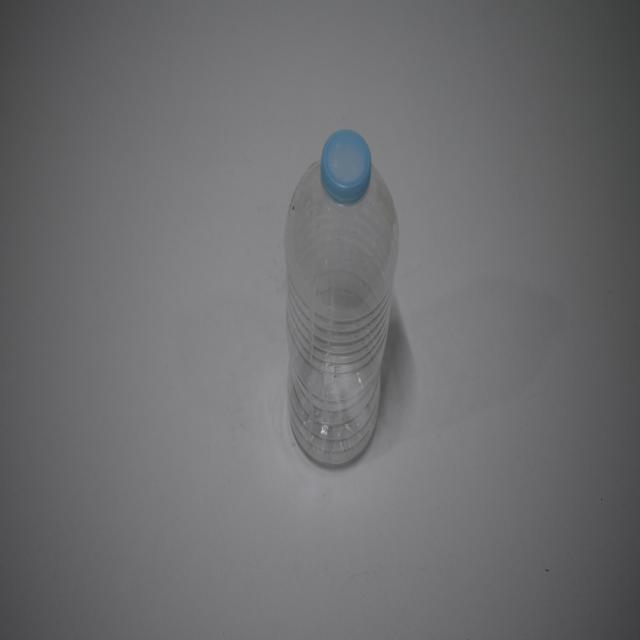empty: (285, 130, 398, 466)
